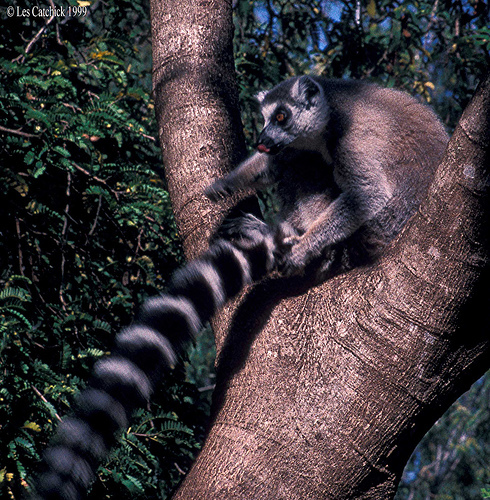cat: (31, 67, 445, 497)
